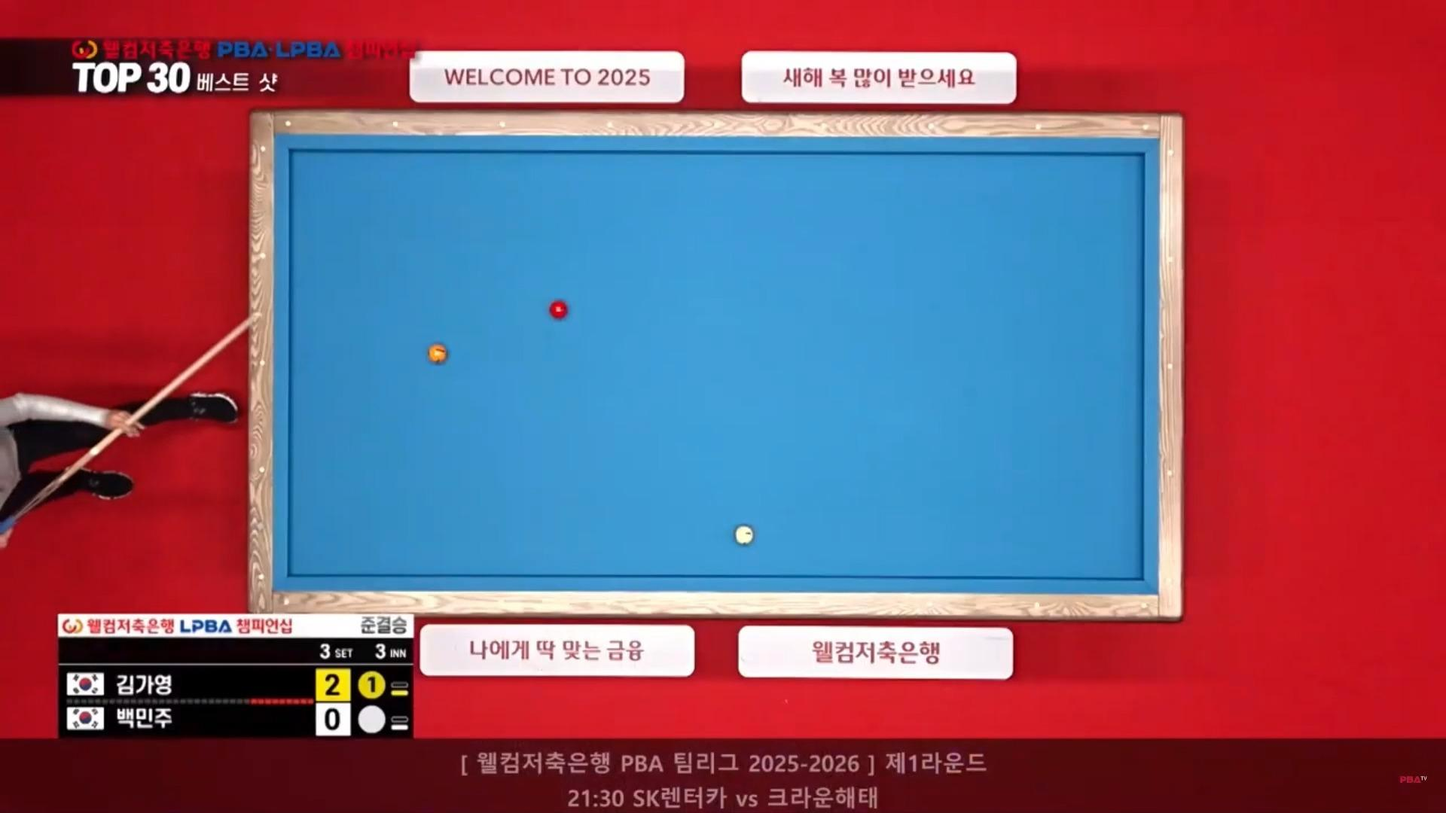Red: (542, 299, 567, 316), (548, 302, 570, 320)
White: (731, 526, 755, 546)
billiard-ball-Yellow: (425, 342, 451, 368)
